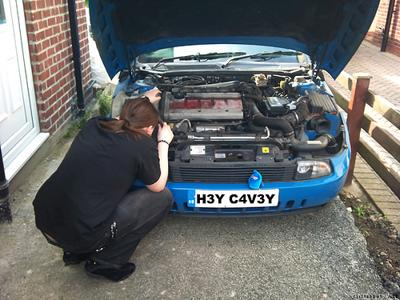person: (32, 94, 175, 282)
